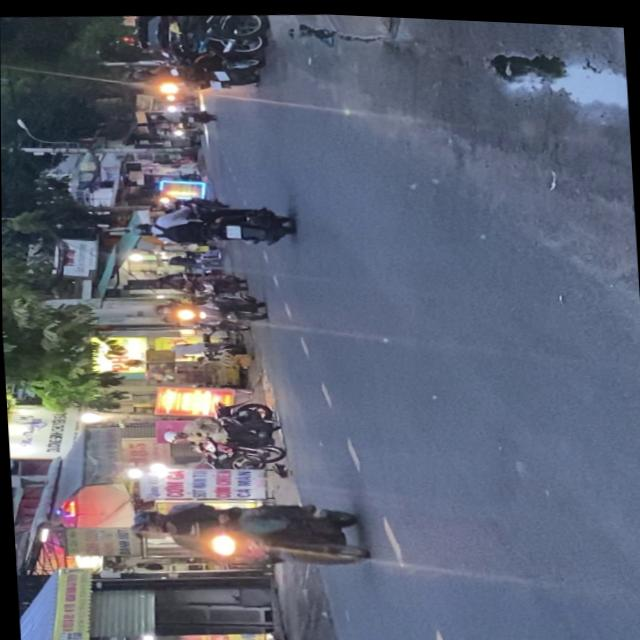helmet: (129, 519, 166, 538), (130, 507, 165, 525)
licenseplate: (125, 487, 371, 577)
